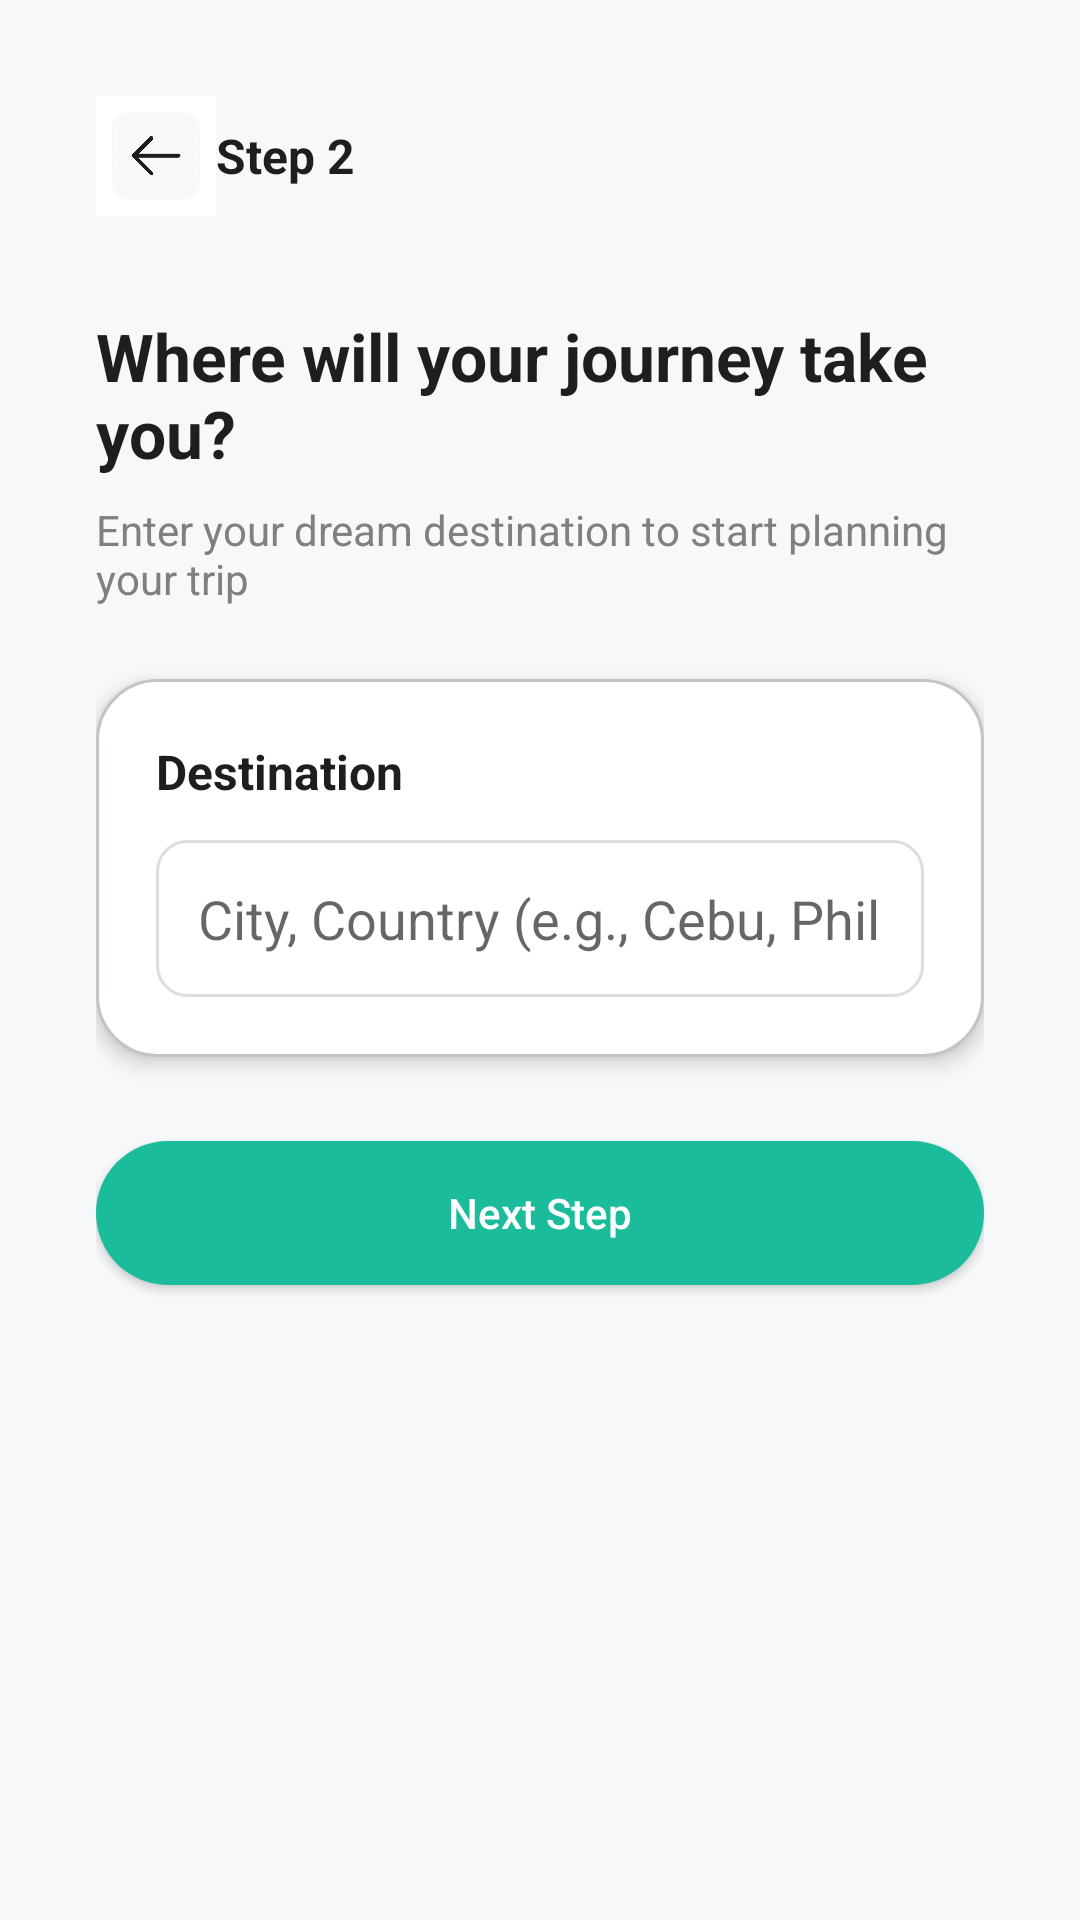

Where to tap for icons on this 1080px x 1920px app screen, as point (x, y):
Back: point (156, 155)
